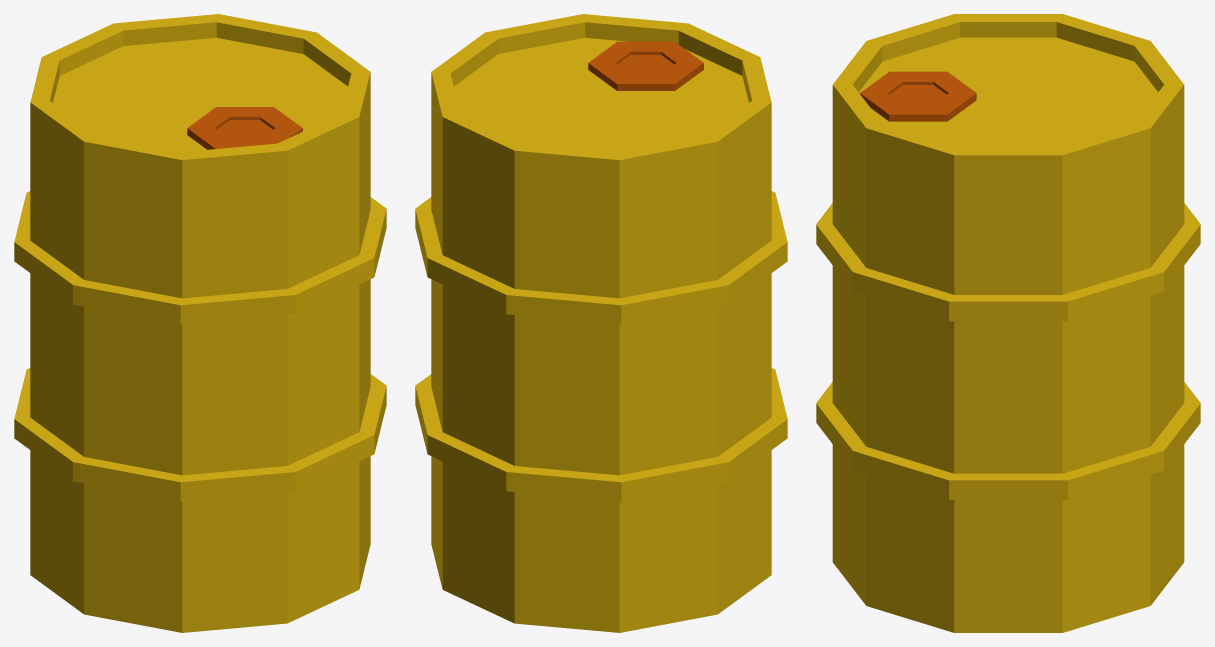
The model's file is oil-drum-by-zsky-TLsXd9efLC.glb.
3 renders of one model, left to right at view 1: azimuth 30°, elevation 25°; view 2: azimuth 150°, elevation 25°; view 3: azimuth 270°, elevation 25°, orthographic.
Parts seen in each view (by area): view 1: OilDrum_04_Cylinder.007; view 2: OilDrum_04_Cylinder.007; view 3: OilDrum_04_Cylinder.007.
Part boxes in pixels (<box>): OilDrum_04_Cylinder.007: <box>14,14,386,632</box>; OilDrum_04_Cylinder.007: <box>415,14,787,632</box>; OilDrum_04_Cylinder.007: <box>816,14,1200,632</box>.
Bounding box in the file's own units: 3.26 × 4.7 × 3.43.
